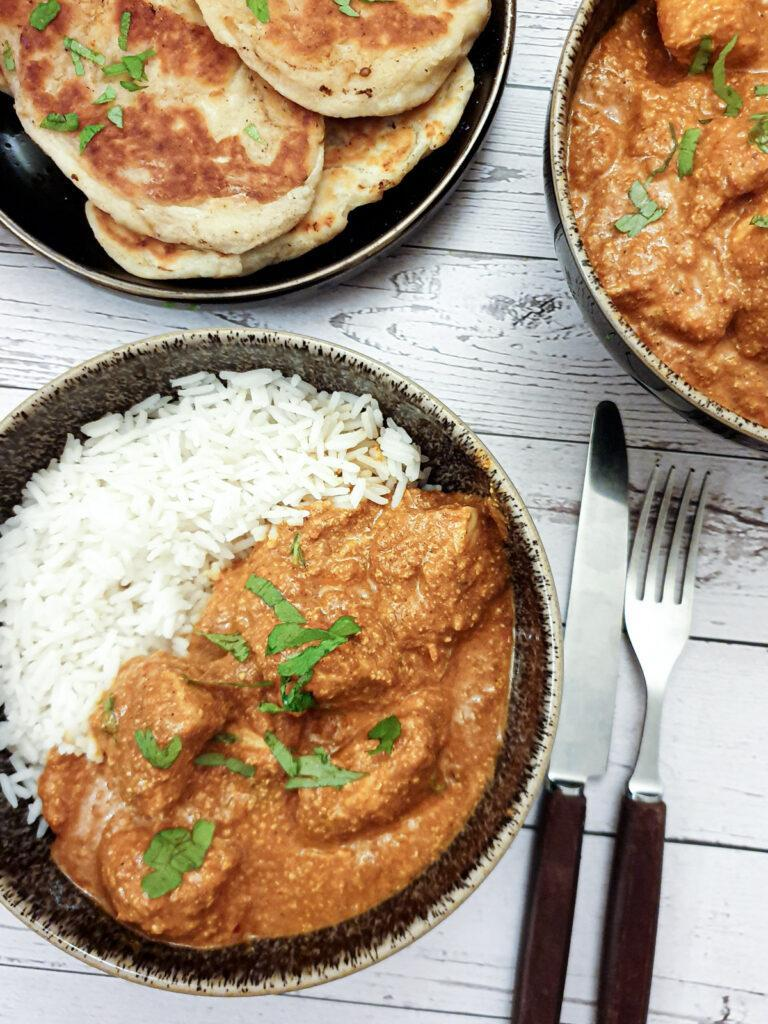chicken: (258, 559, 500, 912), (72, 691, 360, 952), (570, 41, 768, 379)
rice: (70, 421, 288, 602), (5, 516, 107, 755)
